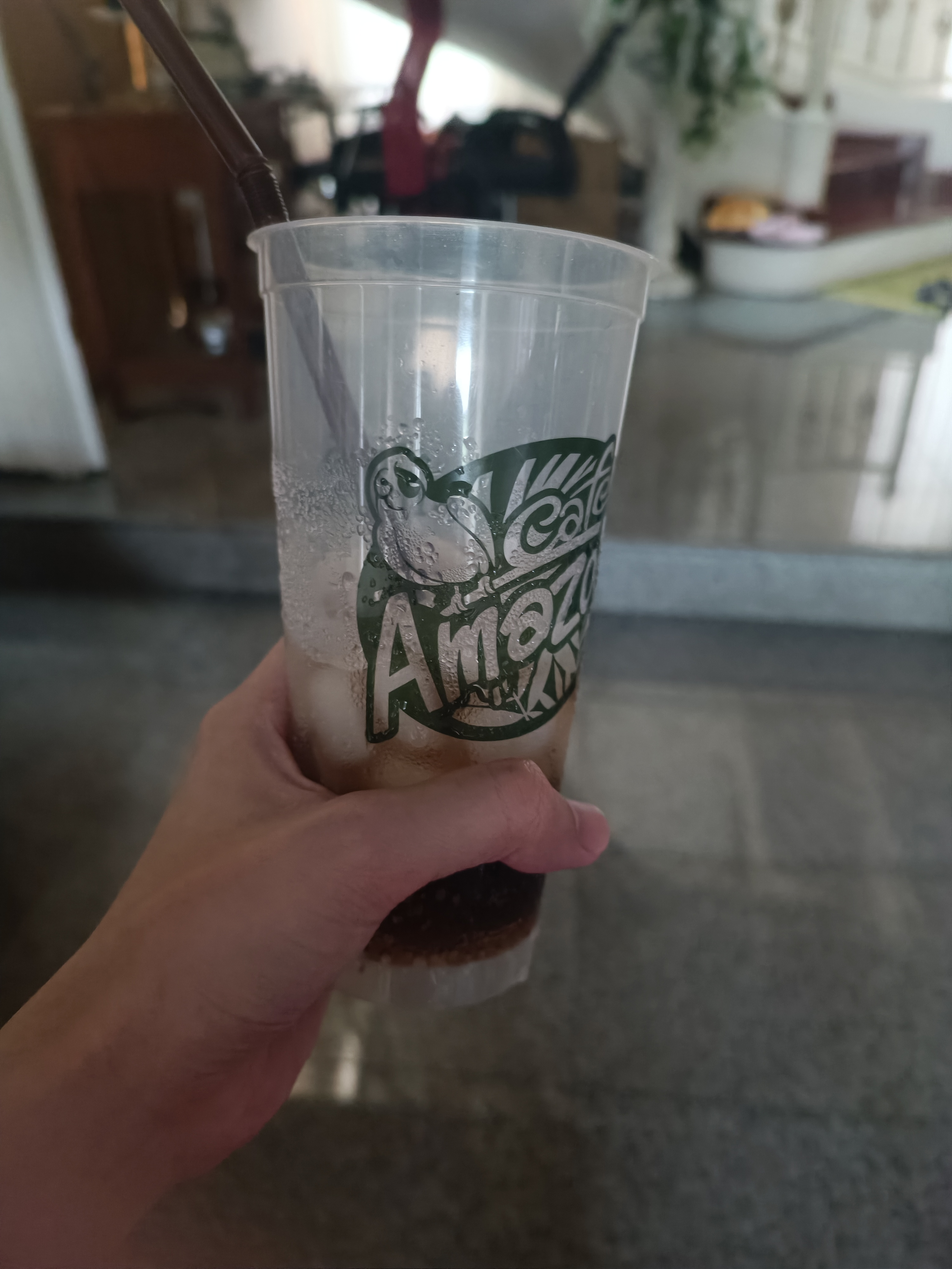plastic: (221, 179, 674, 999)
